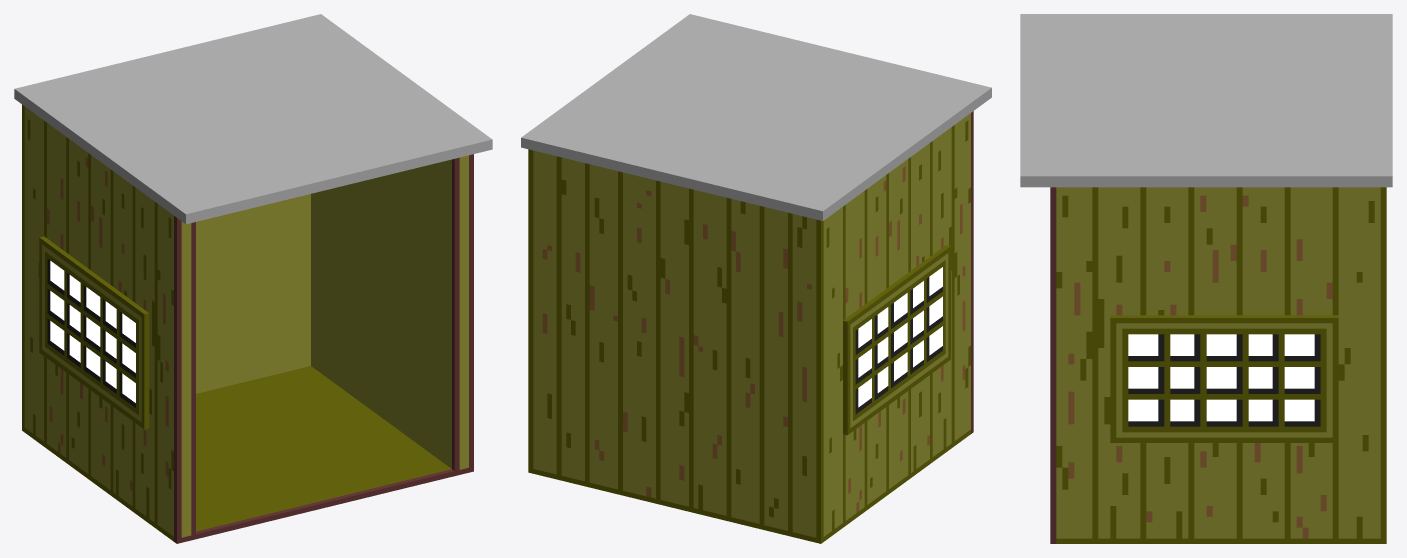
The model's file is typeSeven.glb.
3 renders of one model, left to right at view 1: azimuth 30°, elevation 25°; view 2: azimuth 150°, elevation 25°; view 3: azimuth 270°, elevation 25°, orthographic. The views are drawn at different scales.
Visible parts, largest first — view 1: ObjObject; view 2: ObjObject; view 3: ObjObject.
Boxes of the visible parts, x1=… form: ObjObject: x1=14, y1=14, x2=492, y2=543; ObjObject: x1=521, y1=14, x2=991, y2=543; ObjObject: x1=1020, y1=14, x2=1392, y2=543.
Bounding box in the file's own units: 6.4 × 6.8 × 6.2.
2 materials, 1 textured.
